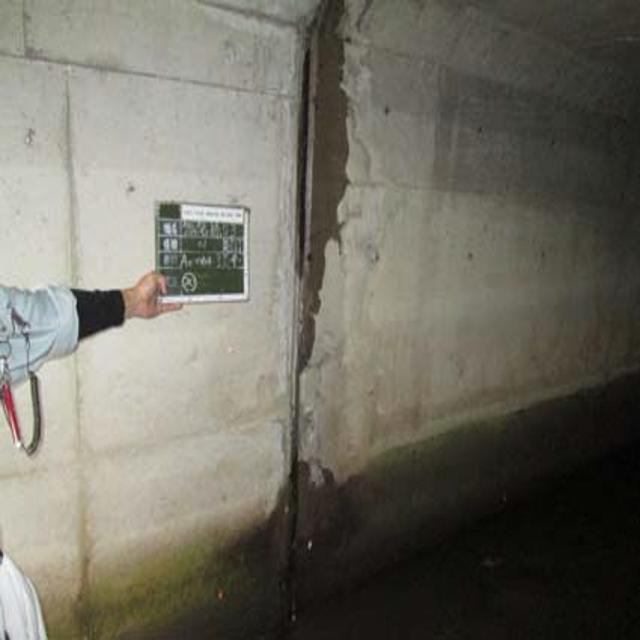leakage: (281, 0, 363, 386)
